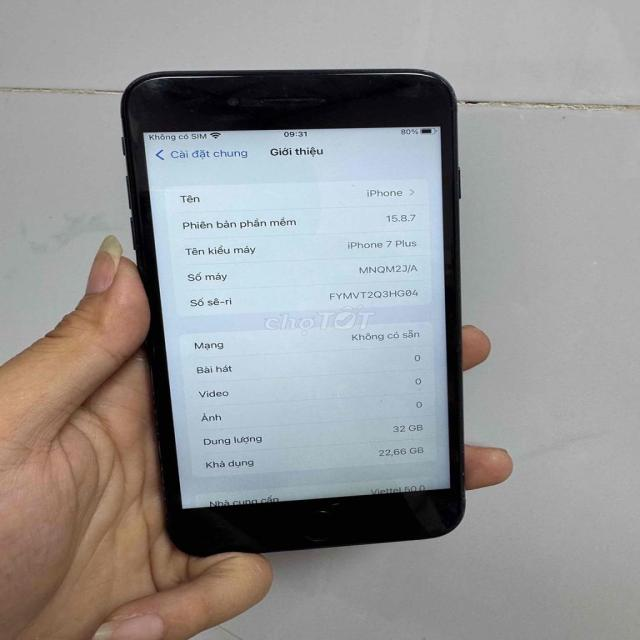scratch: (441, 458, 469, 513), (141, 74, 166, 94)
